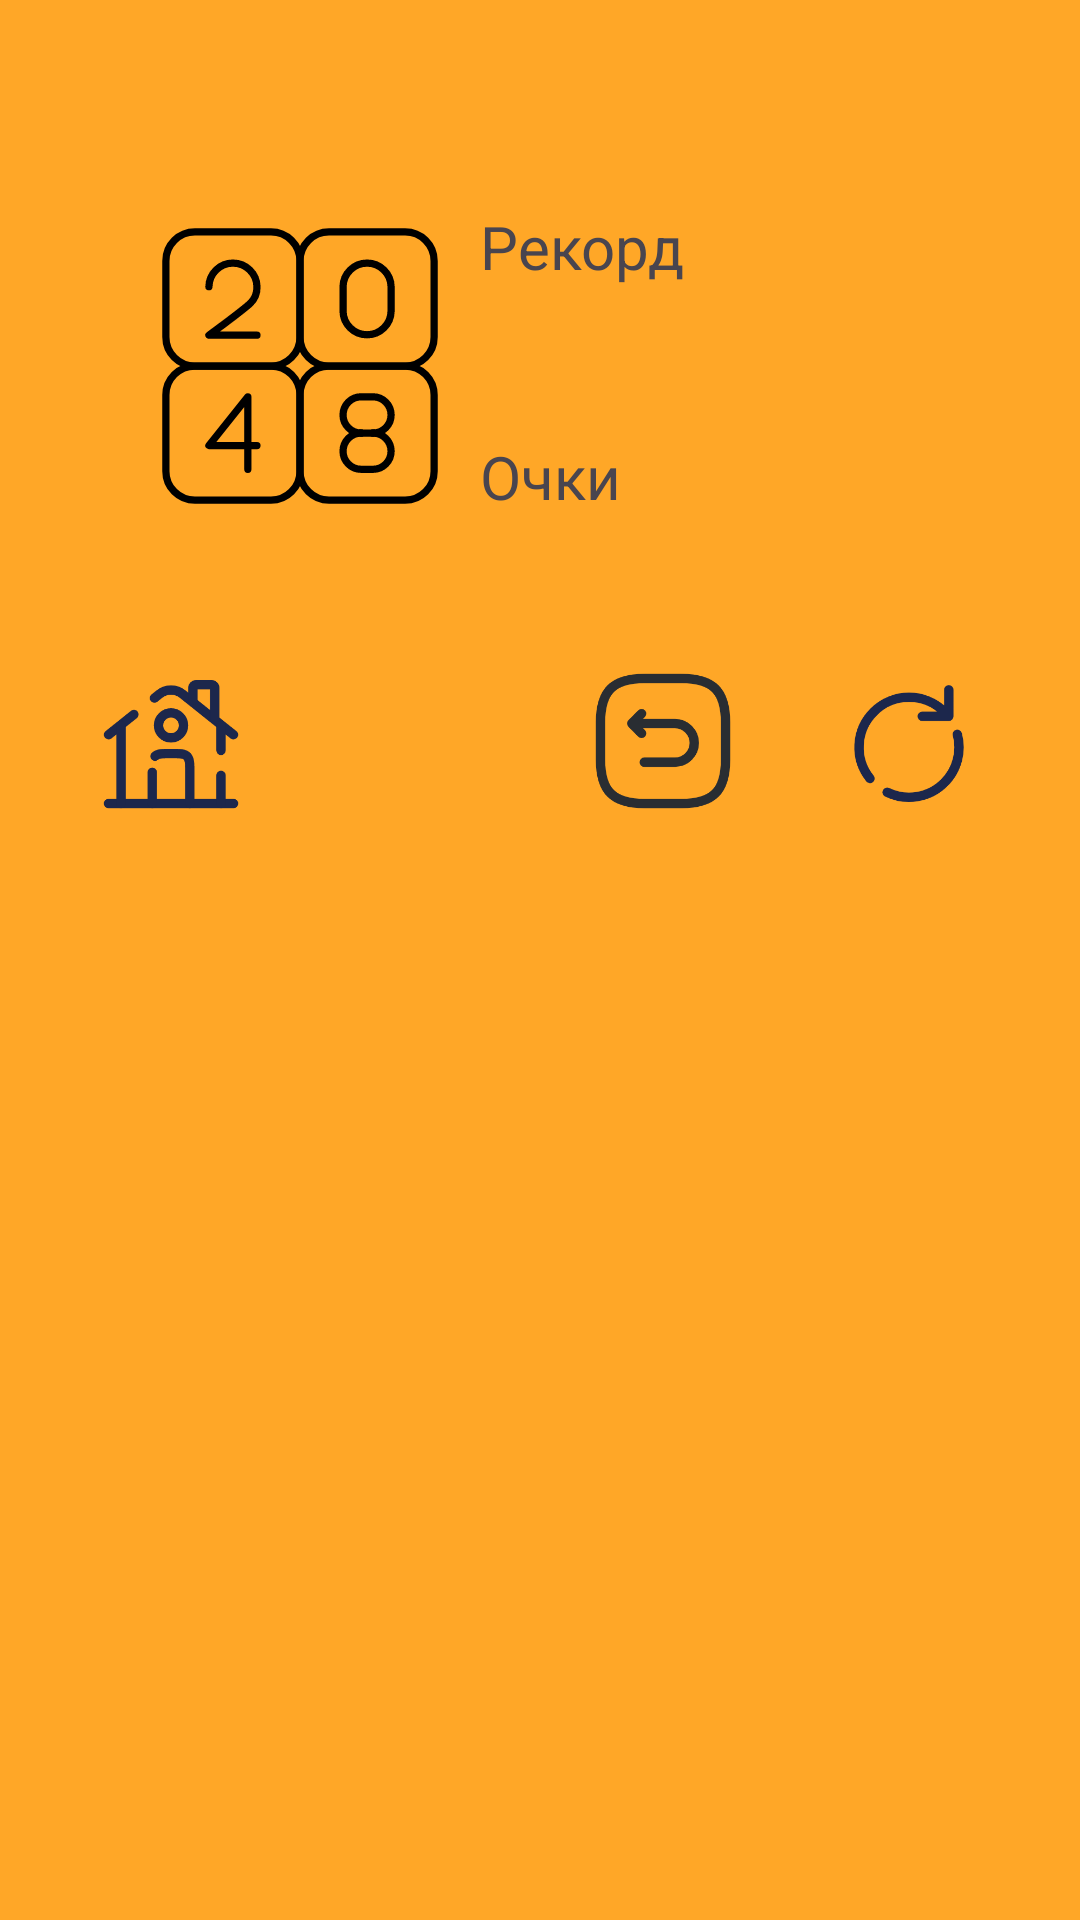

Point at icon controls on the screen. Image size 1080 × 1920, points as [x,y].
Начать заново: [909,743]
Откат: [663,741]
